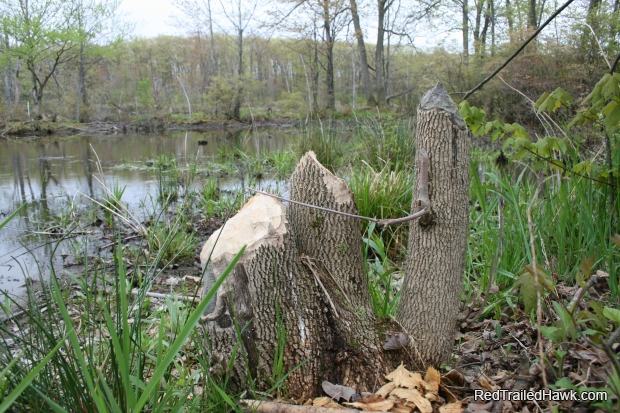sky: (48, 1, 464, 42)
tree: (1, 14, 77, 120)
vegetation: (480, 161, 613, 304)
water: (55, 149, 282, 199), (2, 127, 357, 158), (1, 159, 70, 289)
